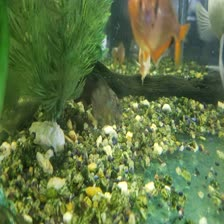Transparente: (126, 0, 191, 75)
